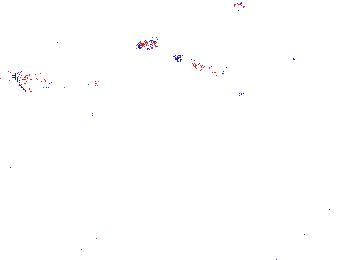red belly glassfish: (134, 34, 177, 52), (279, 52, 310, 67), (226, 1, 263, 11)
redtail glassfish: (171, 51, 229, 80), (39, 70, 105, 95), (1, 62, 33, 93)
siberian prawn: (28, 218, 108, 253)
